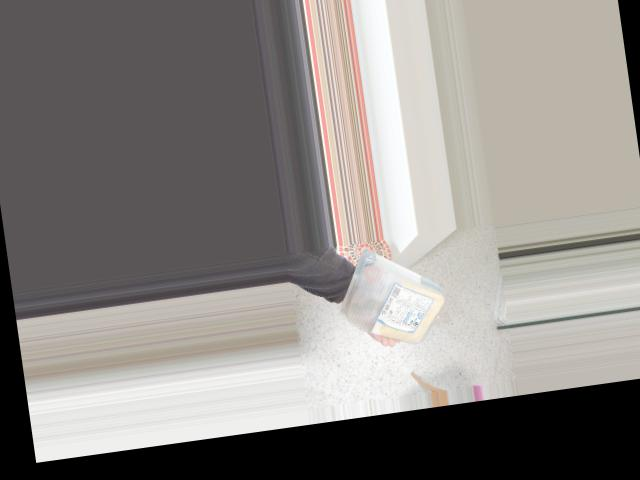cheese: (344, 254, 448, 350)
